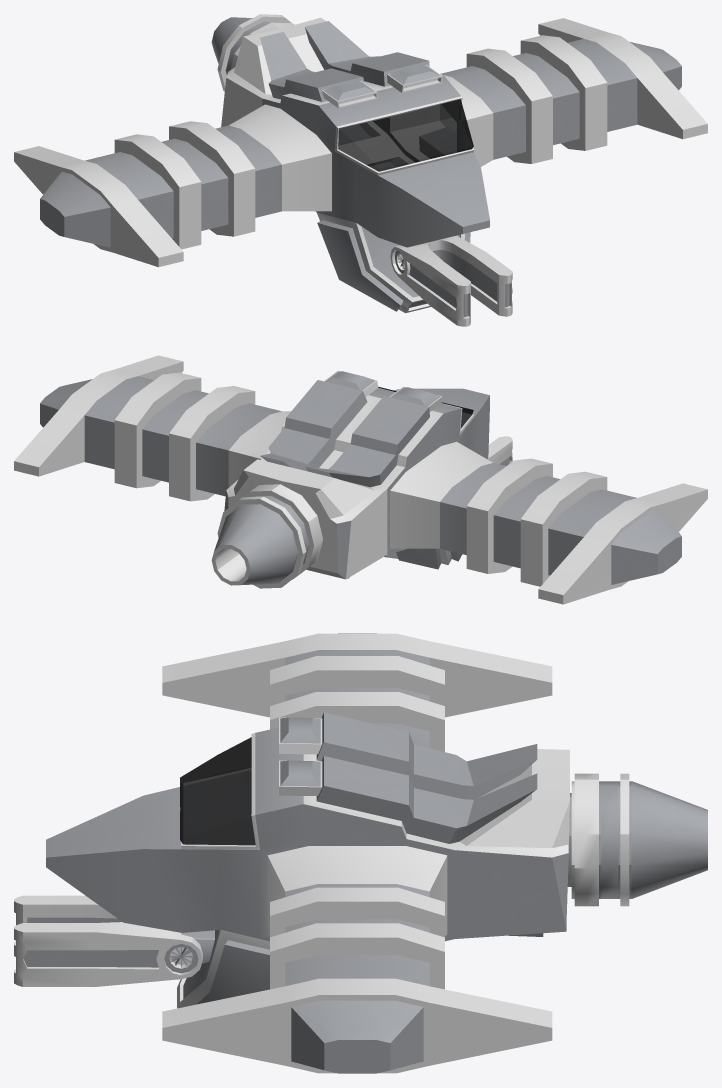
Rendered from CCD.fbx.
3 views of the same model, one above another, from view 1: azimuth 30°, elevation 25°; view 2: azimuth 150°, elevation 25°; view 3: azimuth 270°, elevation 25° (orthographic). The views are drawn at different scales.
Parts seen in each view (by area): view 1: CCD; view 2: CCD; view 3: CCD.
Boxes of the visible parts, <box> form: CCD: <box>14,14,707,326</box>; CCD: <box>14,355,707,604</box>; CCD: <box>14,633,707,1073</box>.
Size of the model in its own units: 8.9 by 2.8 by 6.42.
